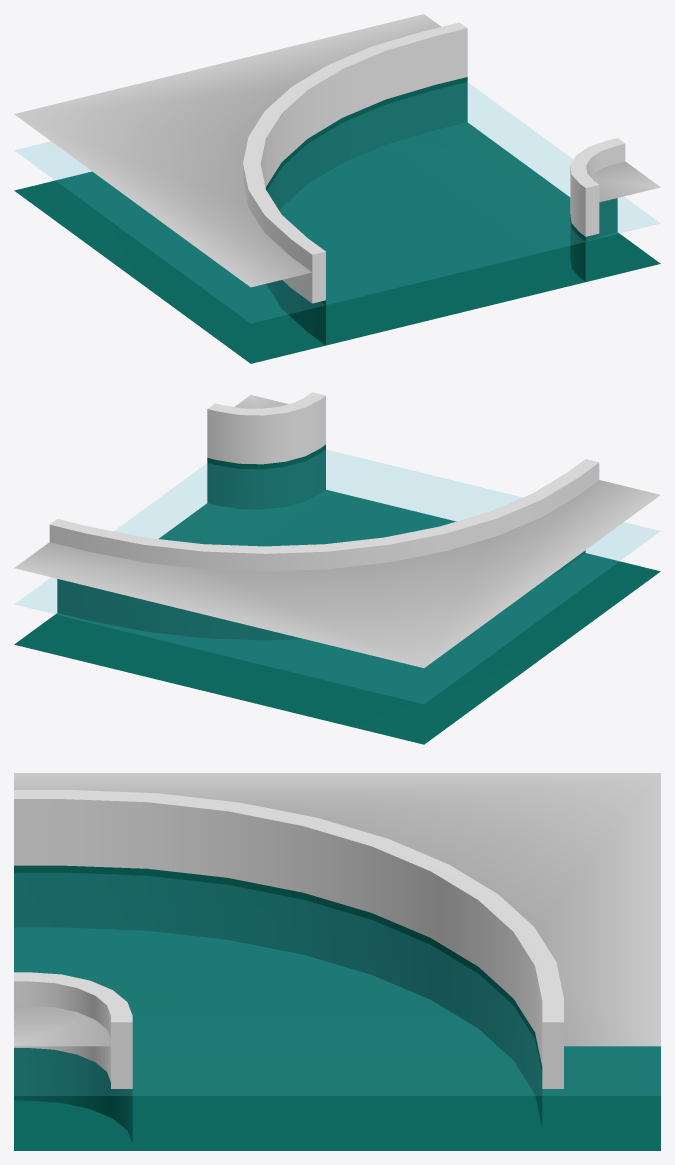
Rendered from Water_11.glb.
3 renders of one model, top to bottom at view 1: azimuth 30°, elevation 25°; view 2: azimuth 150°, elevation 25°; view 3: azimuth 270°, elevation 25°, orthographic. The views are drawn at different scales.
Visible parts, largest first — view 1: Water_11; view 2: Water_11; view 3: Water_11.
Boxes of the visible parts, <box> form: Water_11: <box>14,14,660,363</box>; Water_11: <box>14,392,660,744</box>; Water_11: <box>14,773,660,1150</box>.
Bounding box in the file's own units: 15 × 3.29 × 15.
Materials: 2 (2 with a texture image).
